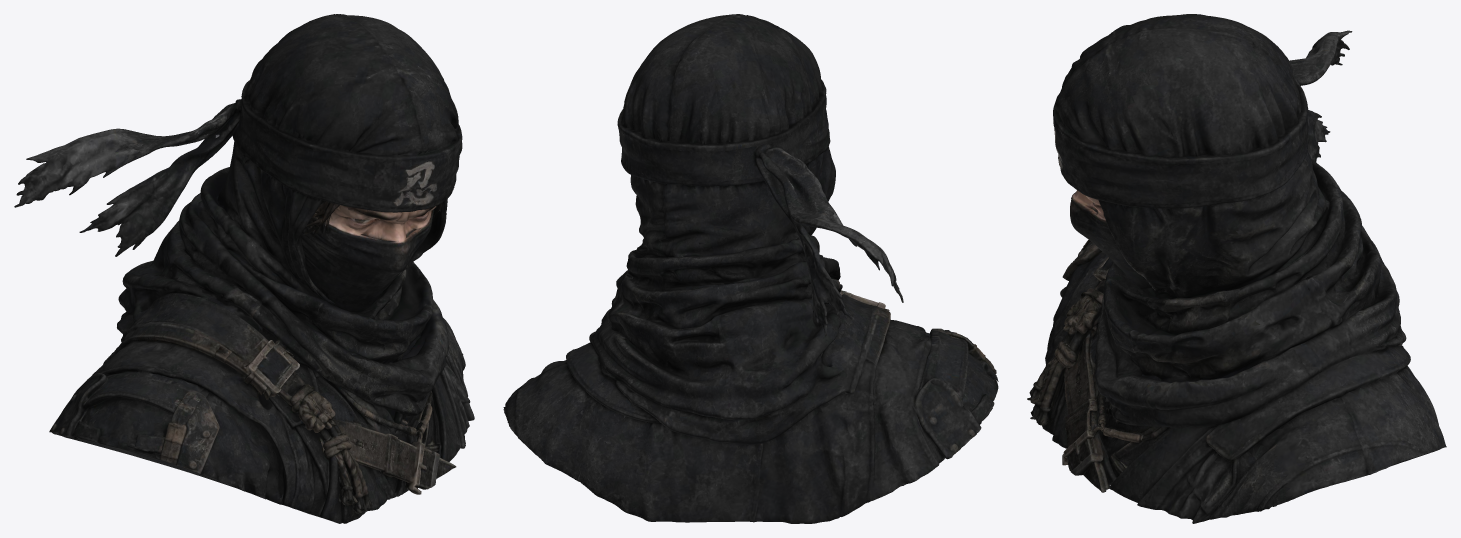
File: shinobi.glb
3 views of the same model, side by side, from view 1: azimuth 30°, elevation 25°; view 2: azimuth 150°, elevation 25°; view 3: azimuth 270°, elevation 25° (orthographic). The views are drawn at different scales.
Visible parts, largest first — view 1: Mesh_0; view 2: Mesh_0; view 3: Mesh_0.
Part boxes in pixels (<box>): Mesh_0: <box>14,14,474,523</box>; Mesh_0: <box>503,14,998,523</box>; Mesh_0: <box>1027,14,1446,523</box>.
Bounding box in the file's own units: 1.9 × 1.78 × 1.54.
Materials: 1 (1 with a texture image).
